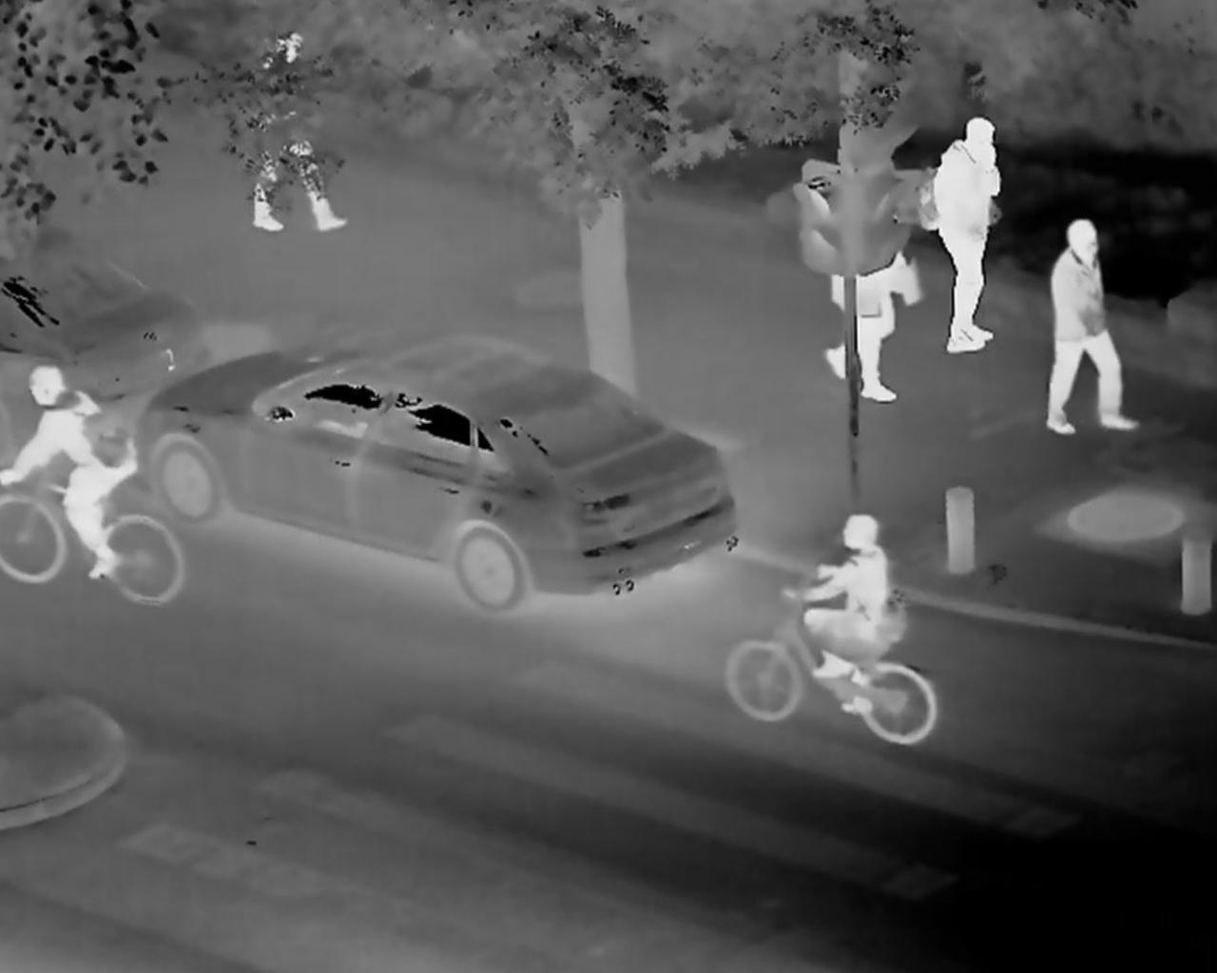person: (5, 359, 132, 587), (791, 510, 916, 711), (821, 175, 918, 407), (1044, 218, 1144, 438), (244, 29, 347, 238), (928, 113, 1010, 358)
